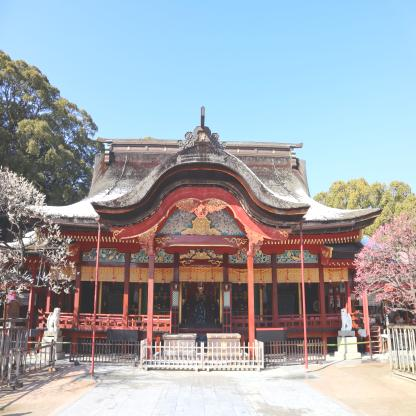Ume: (0, 163, 80, 305), (352, 207, 416, 314)
